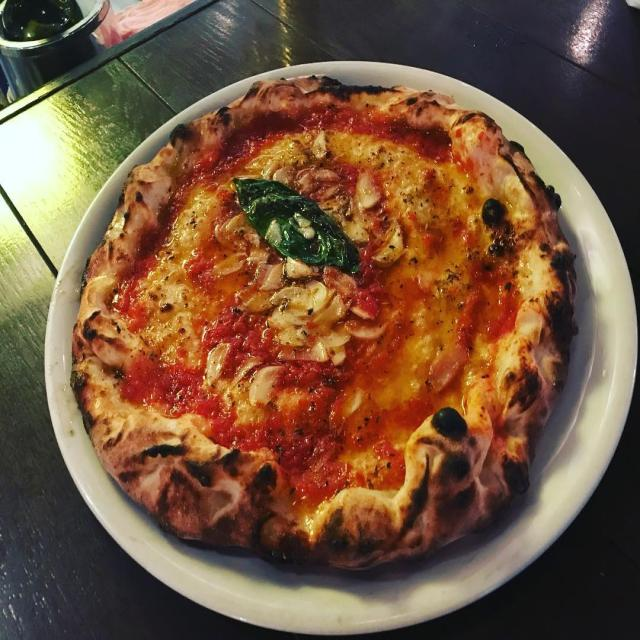basil: (233, 179, 361, 278)
pizza: (71, 76, 577, 574)
